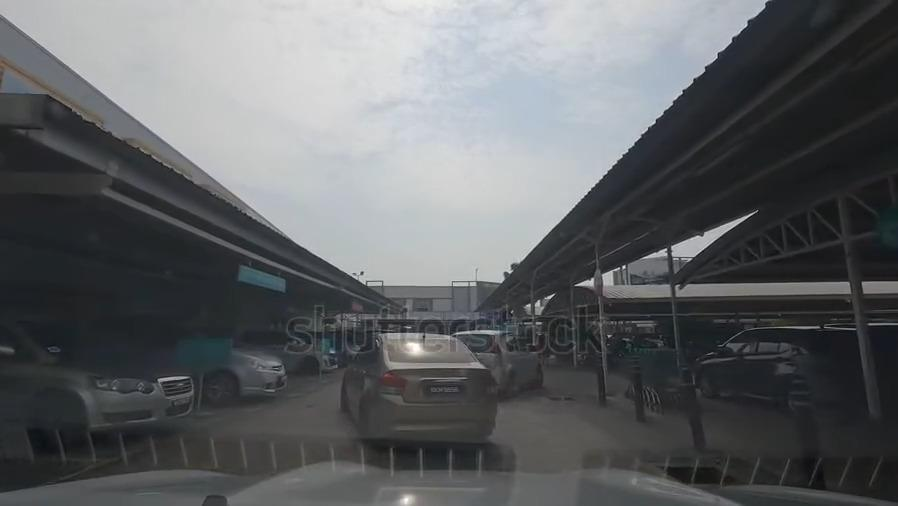car: (0, 328, 197, 424), (346, 337, 501, 449), (693, 331, 872, 401), (186, 343, 289, 397), (461, 329, 542, 389), (247, 334, 337, 375)
manhole: (656, 459, 733, 484), (550, 392, 576, 403)
wheel: (35, 388, 86, 444), (203, 371, 235, 402), (302, 355, 315, 374), (508, 374, 516, 398)
